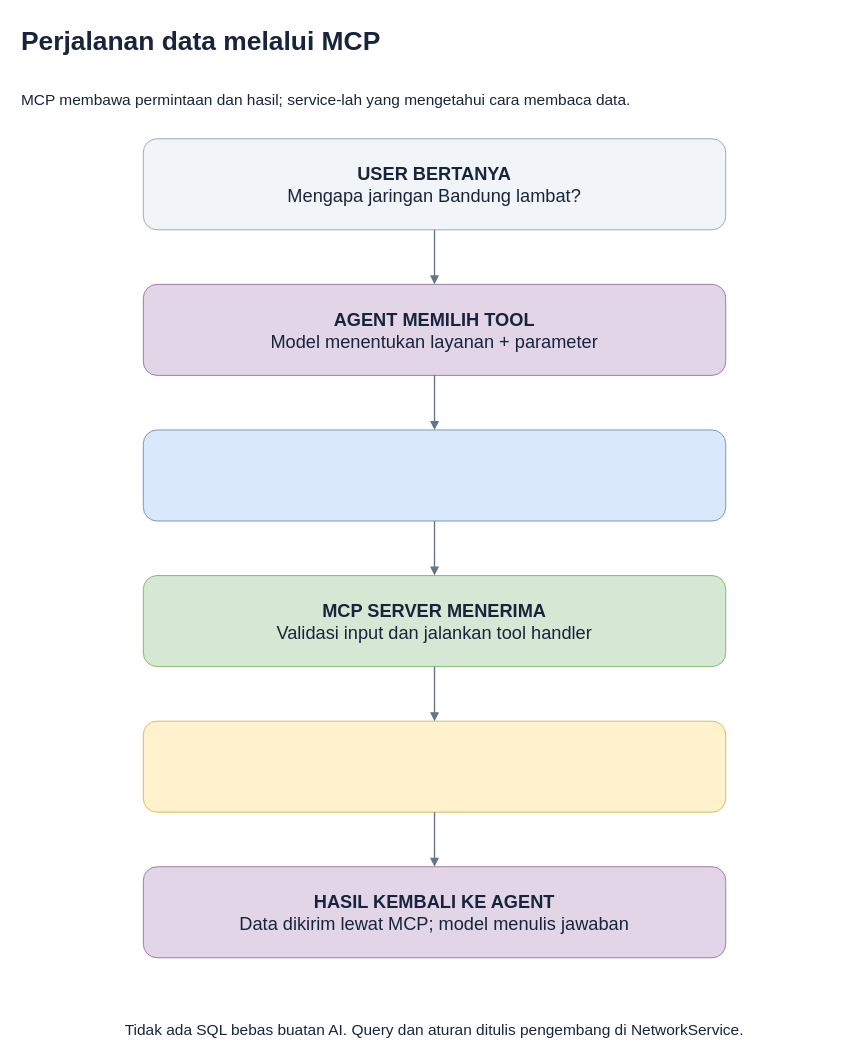
Image size: 868x1064. Some labels were removed from this diagram. Each missing label, with the centre of its shape:
"MCP CLIENT MENGIRIM Copilot SDK mengirim POST /mcp + token" goes at point 434,475.
"SERVICE MEMBACA SQLITE SQL untuk tabel; FTS5 / SQL untuk dokumen" goes at point 434,766.
